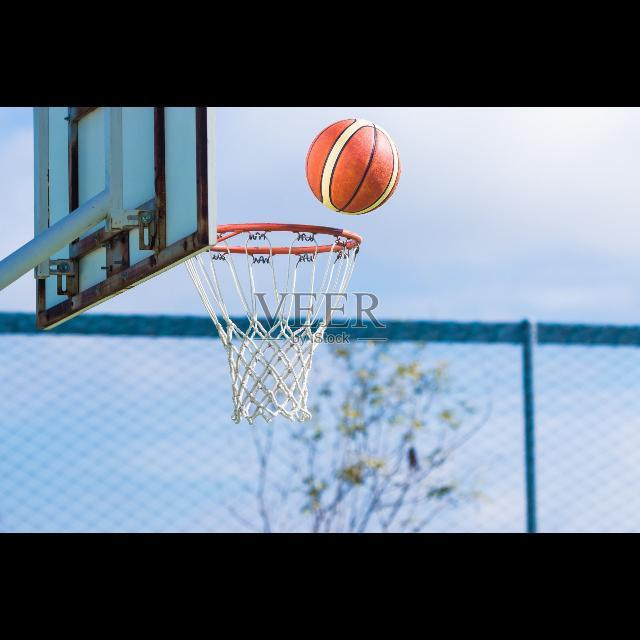basketball: (307, 119, 403, 215)
rim: (184, 223, 360, 424)
